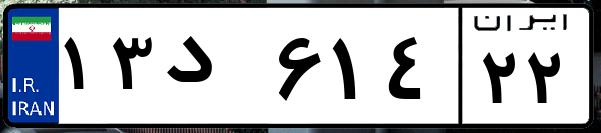1: (330, 28, 385, 110), (57, 26, 110, 100)
2: (475, 38, 525, 113), (525, 38, 570, 115)
3: (110, 28, 158, 98)
4: (385, 28, 445, 110)
6: (270, 28, 330, 110)
د: (158, 20, 270, 120)
